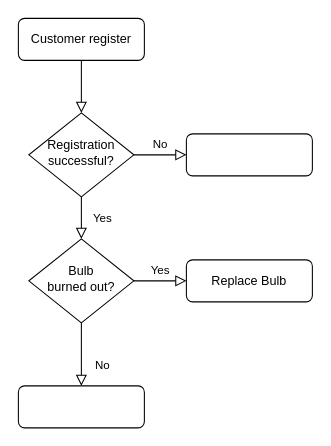
Some shapes in this 331 by 446 pixel diagram are drawn without their labels. The shapes that lost their labels are listed below. From the top down, each one's centre as x and y in pixels, then its label:
At [248,154]: "Plug in lamp".
At [80,406]: "Repair Lamp".
